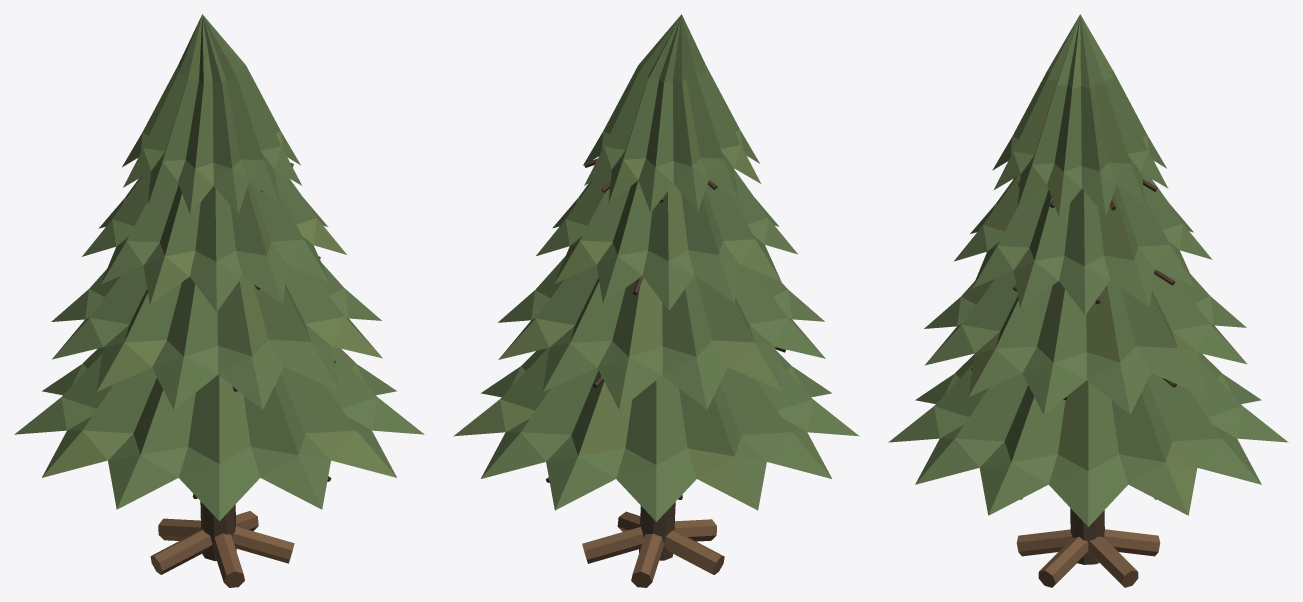
The model's file is Camp_BackdropTree.fbx.
3 renders of one model, left to right at view 1: azimuth 30°, elevation 25°; view 2: azimuth 150°, elevation 25°; view 3: azimuth 270°, elevation 25°, orthographic. The views are drawn at different scales.
Parts seen in each view (by area): view 1: Camp_BackdropTree_Export; view 2: Camp_BackdropTree_Export; view 3: Camp_BackdropTree_Export.
Part boxes in pixels (box(x1,y1,x2,y2)): Camp_BackdropTree_Export: box(14, 14, 424, 587); Camp_BackdropTree_Export: box(453, 14, 859, 587); Camp_BackdropTree_Export: box(888, 14, 1288, 587).
Size of the model in its own units: 3.67 by 5.45 by 3.67.
